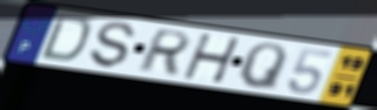5: (285, 46, 335, 95)
D: (38, 12, 94, 64)
H: (180, 33, 243, 85)
Q: (236, 41, 290, 93)
R: (133, 28, 195, 76)
S: (89, 20, 138, 70)
